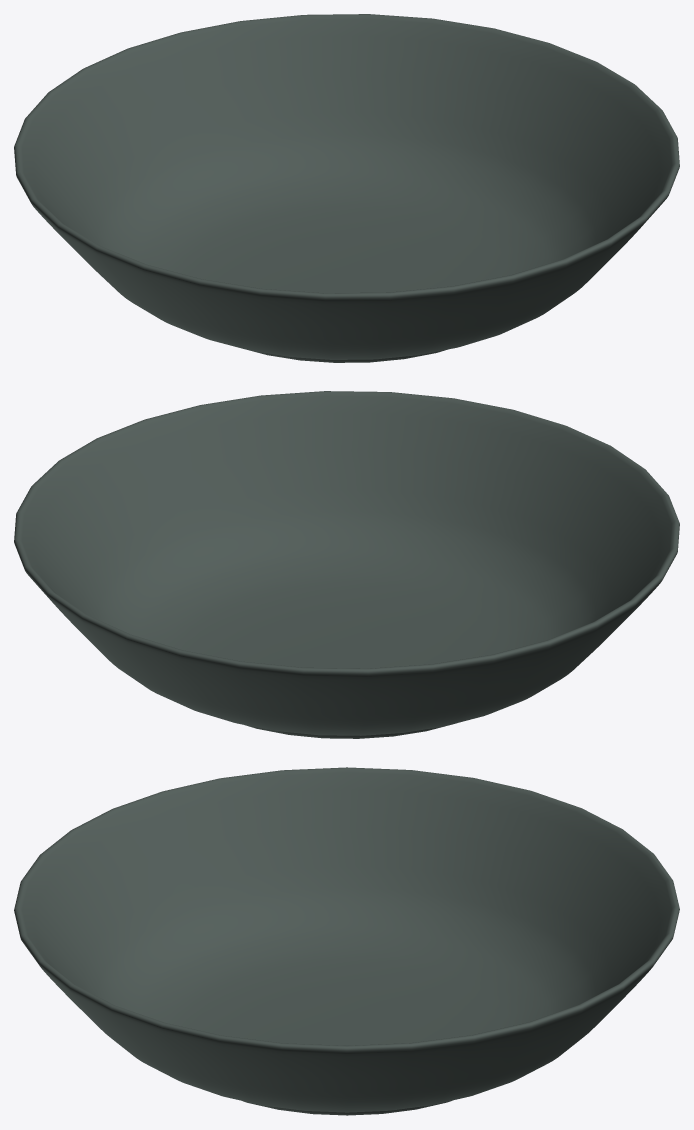
Rendered from platemedium.obj.
The picture shows the model from 3 angles, top to bottom: view 1: azimuth 30°, elevation 25°; view 2: azimuth 150°, elevation 25°; view 3: azimuth 270°, elevation 25°; orthographic projection.
Visible parts, largest first — view 1: Vert.001_Vert.005; view 2: Vert.001_Vert.005; view 3: Vert.001_Vert.005.
Boxes of the visible parts, x1=… form: Vert.001_Vert.005: x1=14, y1=14, x2=679, y2=362; Vert.001_Vert.005: x1=14, y1=391, x2=679, y2=738; Vert.001_Vert.005: x1=14, y1=767, x2=679, y2=1115.
Size of the model in its own units: 0.22 by 0.05 by 0.22.
